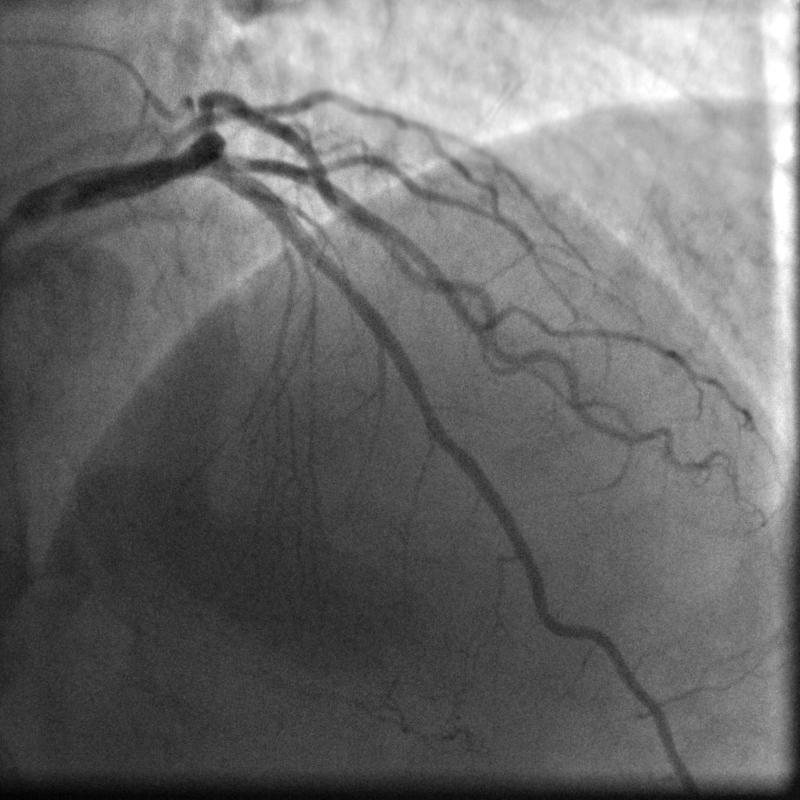Stenosis: (426, 392, 454, 465)
